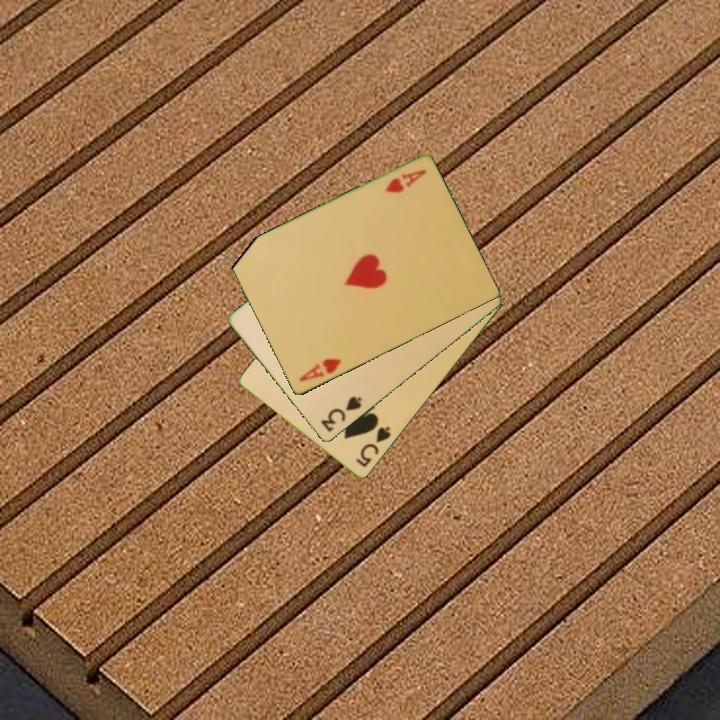3s: (317, 393, 365, 436)
5s: (352, 423, 394, 470)
Ah: (295, 355, 344, 385), (381, 166, 429, 196)
